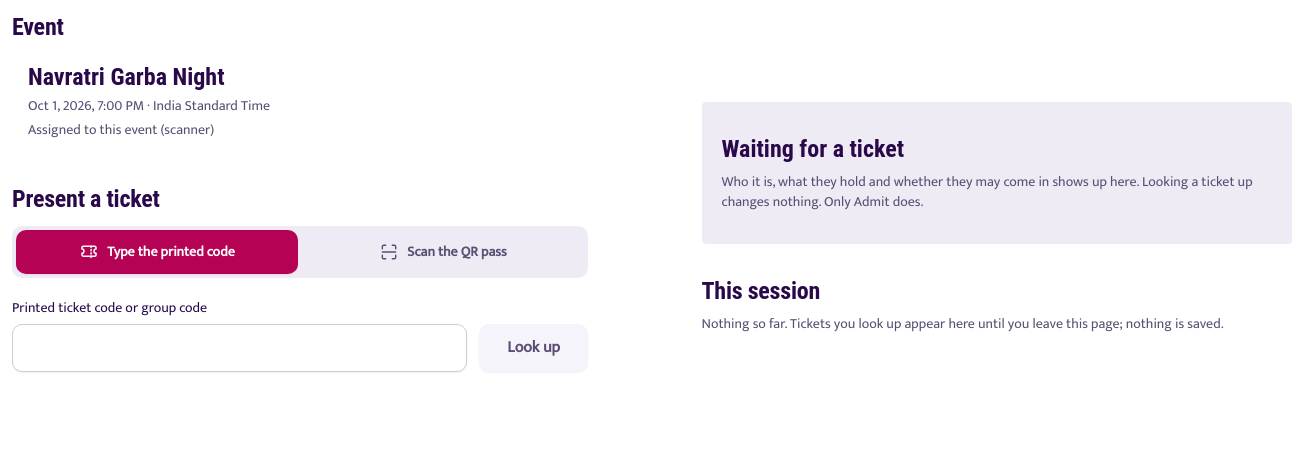
DoorWorkspace: looking up, then admitting › admits only when Admit is pressed, with the same code and the reference, once
Step 1. Type "det-abc123xyz" into the field labelled "Printed ticket code or group code" → (240, 348), box [12,324,467,372]
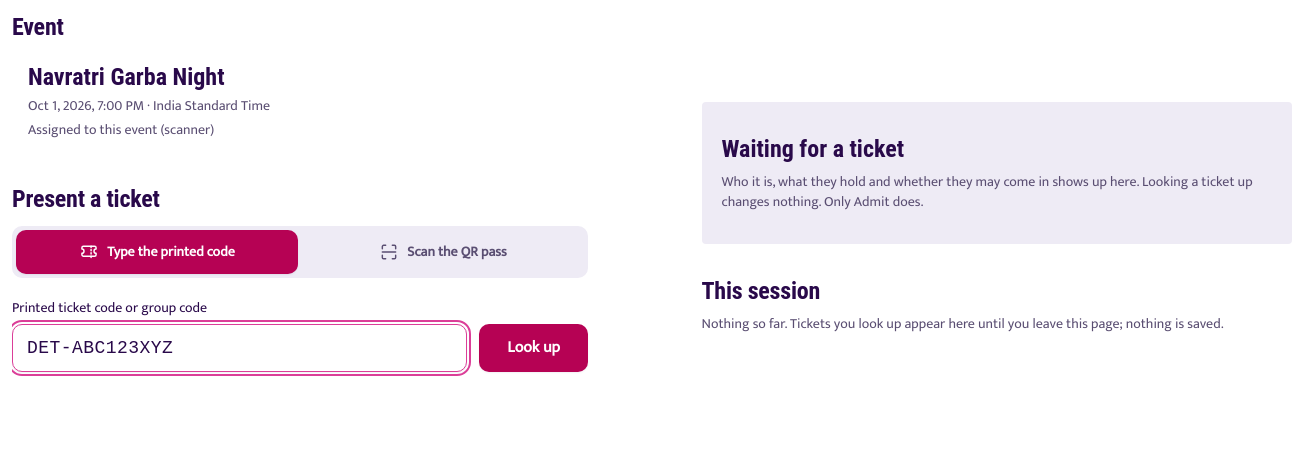
Step 2. Click the button "Look up" → (534, 348), box [479,324,588,372]
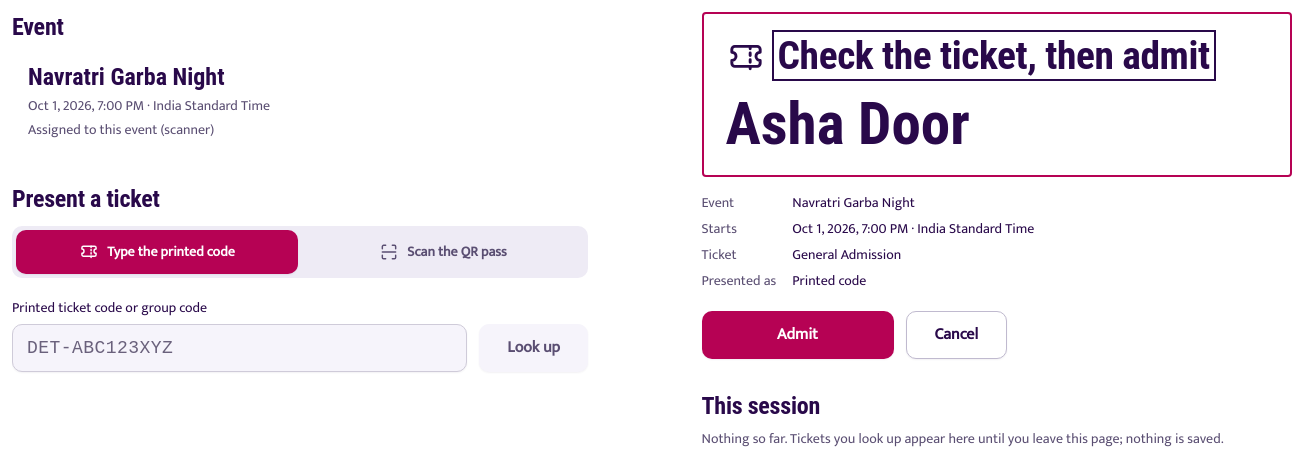
Step 3. Click the button "Admit" → (798, 335), box [702,311,894,359]
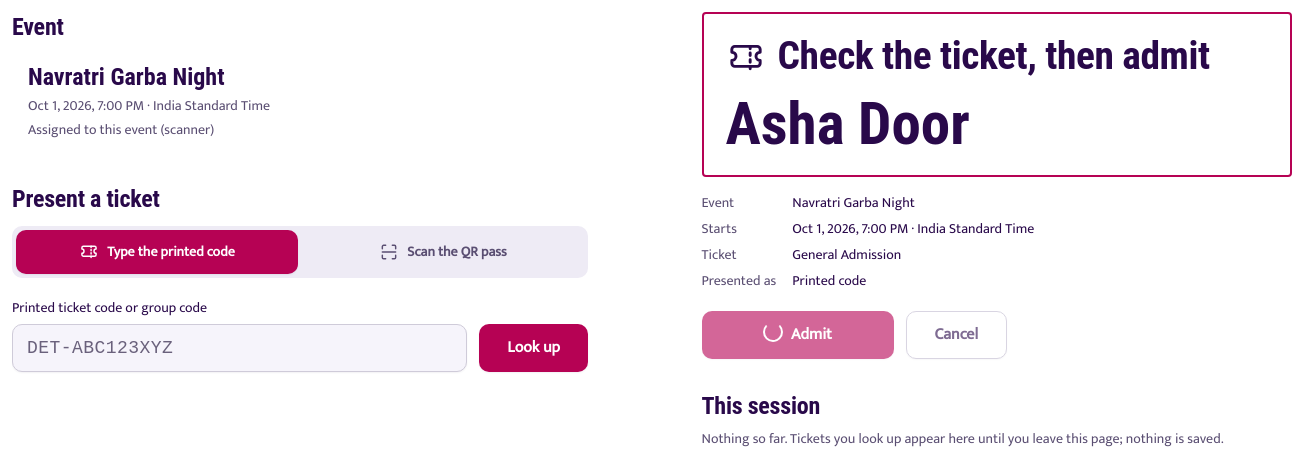
Step 4. Click the button "Admit" → (798, 335), box [702,311,894,359]
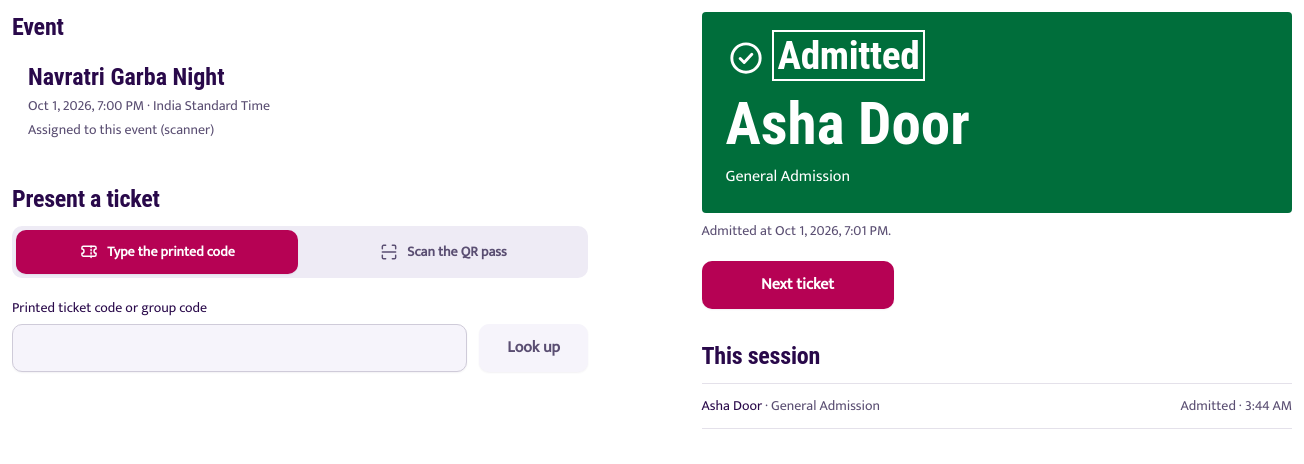
Expected: the text "DET-ABC123XYZ" is not shown
Result: the text "Admitted · 3:44 AM" is shown at [1181,396,1292,416]
